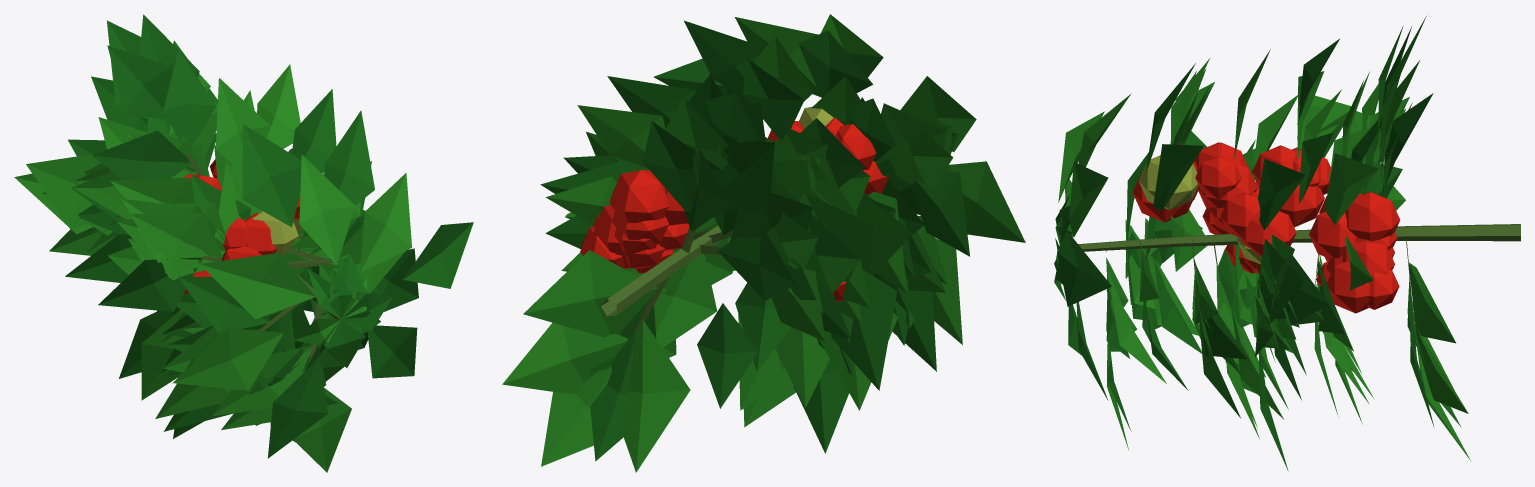
Rendered from healthy_2.obj.
3 views of the same model, side by side, from view 1: azimuth 30°, elevation 25°; view 2: azimuth 150°, elevation 25°; view 3: azimuth 270°, elevation 25° (orthographic). The views are drawn at different scales.
Bounding box in the file's own units: 0.7078 × 0.7649 × 0.8073.
